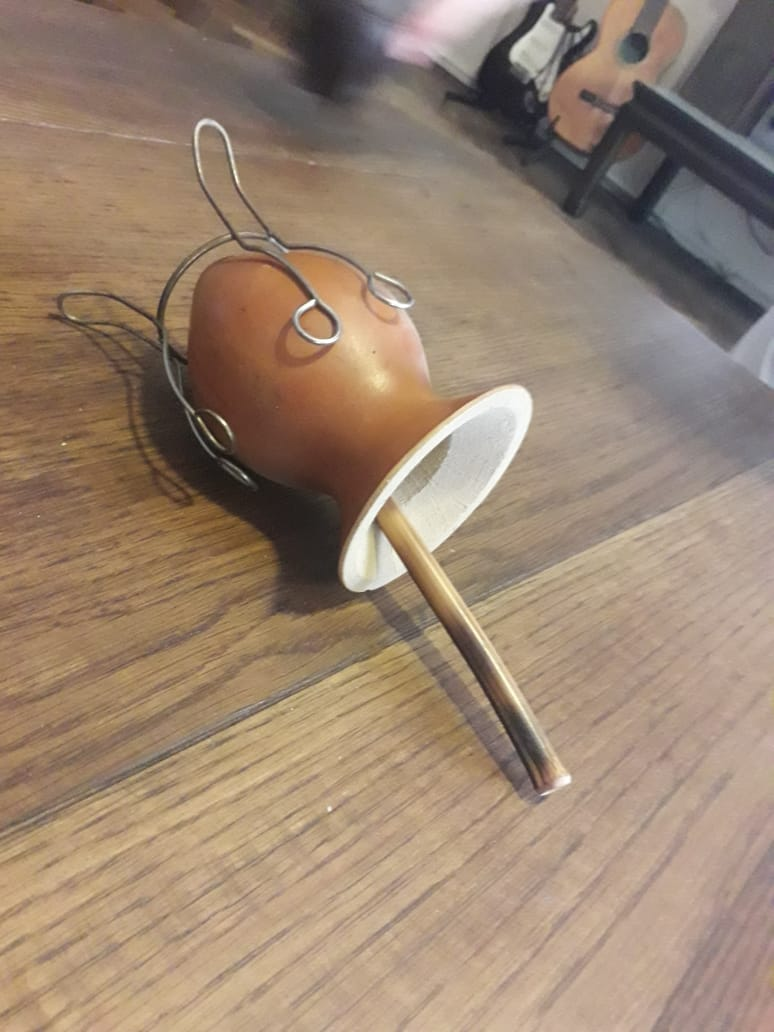calabaza: (50, 115, 575, 801)
mate: (52, 117, 577, 803)
